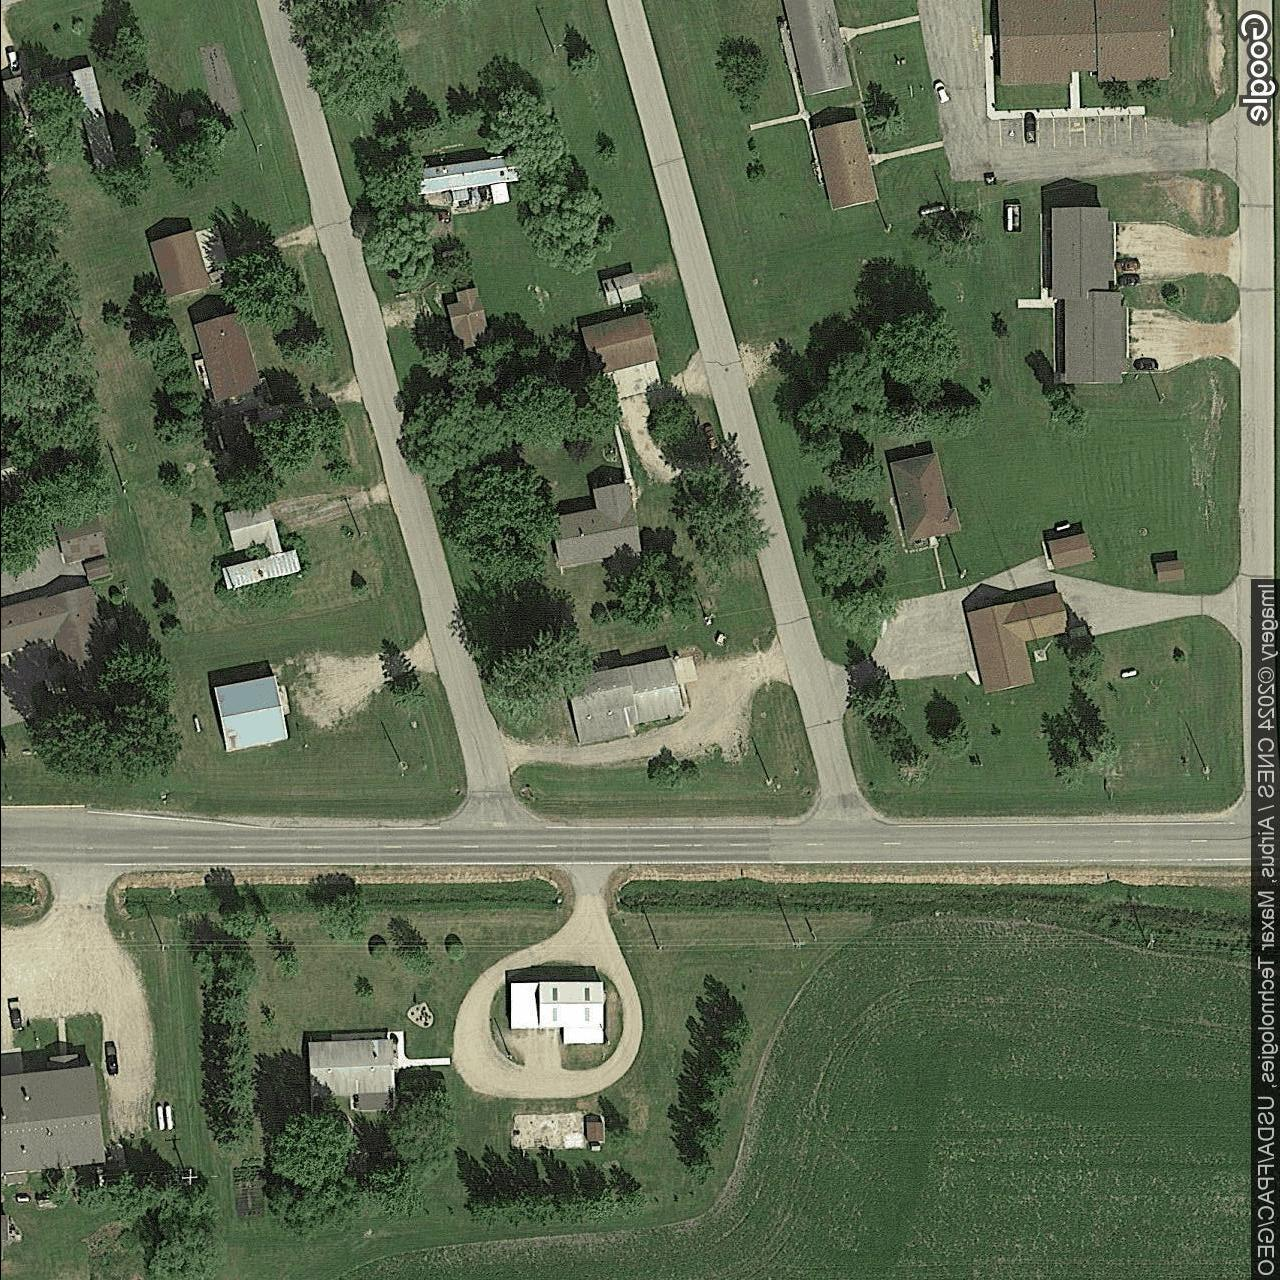Garage: (508, 981, 605, 1046), (210, 674, 287, 754), (578, 311, 660, 376), (147, 230, 209, 300), (223, 501, 282, 556), (50, 511, 109, 564), (0, 75, 36, 135), (1047, 532, 1094, 571)
House: (996, 0, 1171, 86), (0, 585, 118, 702), (1050, 207, 1125, 384), (0, 1065, 105, 1173), (564, 655, 685, 745), (965, 593, 1069, 695), (550, 482, 640, 566), (782, 0, 853, 97), (810, 116, 881, 213), (887, 452, 962, 543), (191, 312, 263, 406), (306, 1039, 394, 1111), (69, 66, 115, 172), (445, 288, 491, 350), (0, 1214, 8, 1242)
Propane: (917, 199, 947, 219), (163, 1102, 173, 1131), (1051, 518, 1071, 533), (155, 1105, 165, 1132), (191, 713, 203, 734), (1118, 667, 1137, 680), (1005, 205, 1013, 232), (14, 1194, 29, 1203)
Trailer: (414, 155, 518, 196), (220, 547, 304, 592)
